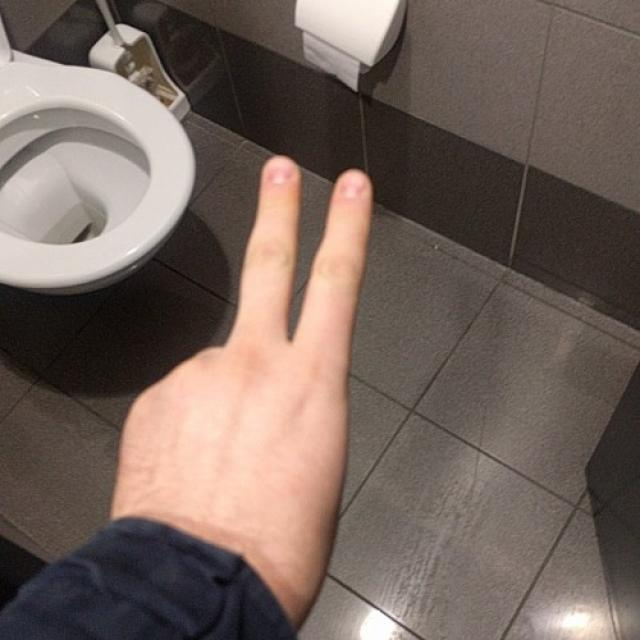scissors: (108, 152, 374, 524)
